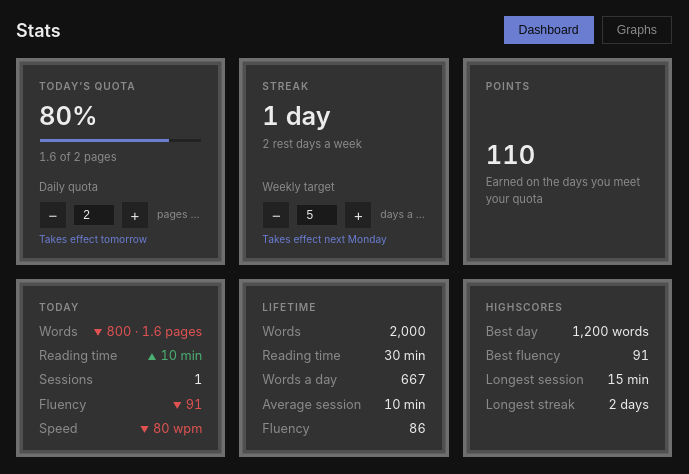
Test case: Stats screen — Graphs tab, timeframe gating › moves off a timeframe the chosen metric cannot show
Click the button "Graphs" at x=637, y=30, box top-left (602, 16), bottom-right (672, 44)
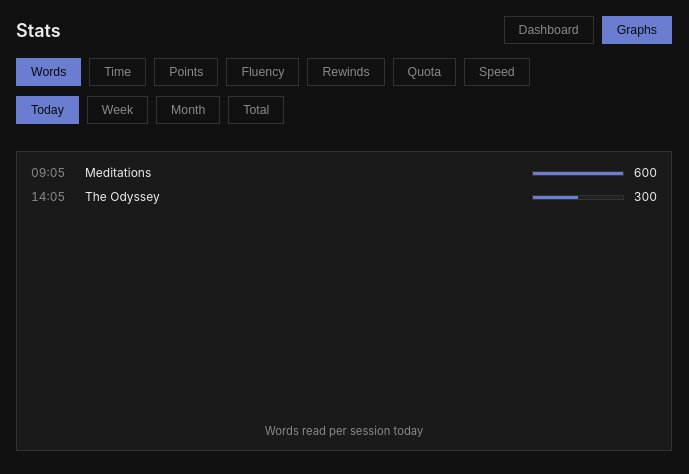
Click the button "Points" at x=186, y=72, box top-left (154, 58), bottom-right (218, 86)
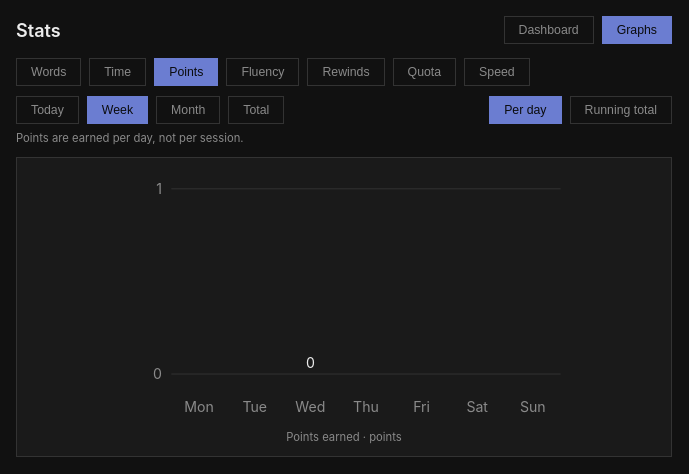
Now the button "Today" is disabled, box top-left (16, 96), bottom-right (79, 124)
Now the text with class "stats-graphs-hint" reads "Points are earned per day, not per session.", box top-left (16, 131), bottom-right (244, 145)
